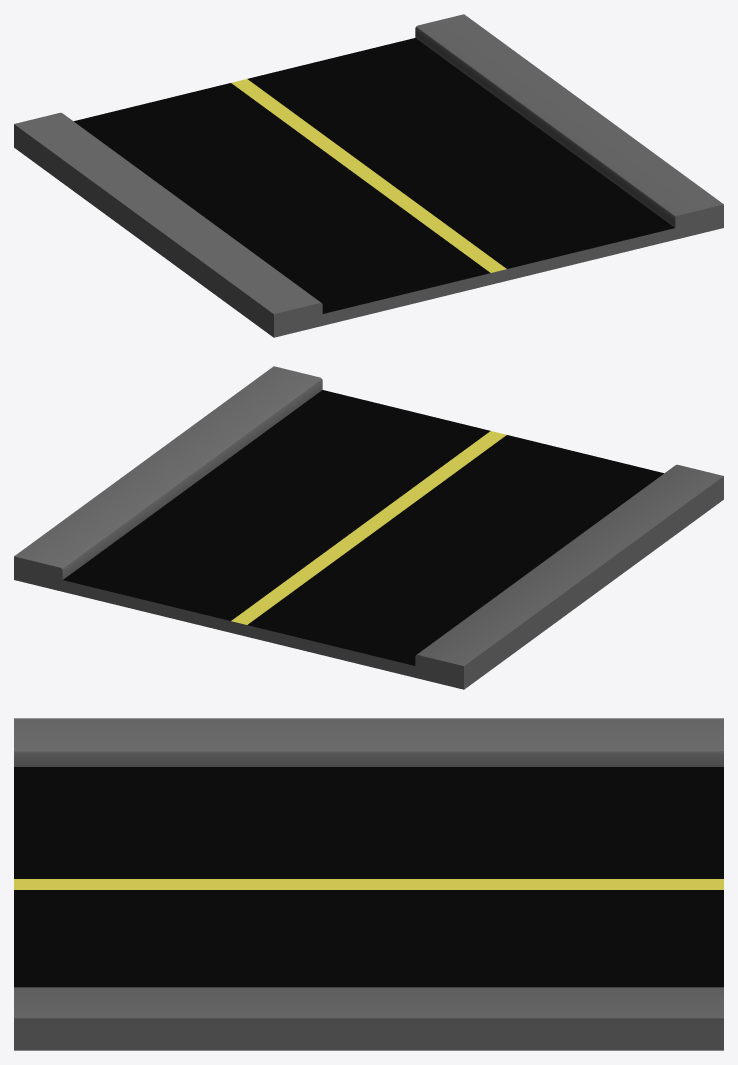
The model's file is Straight5.fbx.
3 renders of one model, top to bottom at view 1: azimuth 30°, elevation 25°; view 2: azimuth 150°, elevation 25°; view 3: azimuth 270°, elevation 25°, orthographic. The views are drawn at different scales.
Parts seen in each view (by area): view 1: Straight3; view 2: Straight3; view 3: Straight3.
Boxes of the visible parts, box(x1,y1,x2,y2) form: Straight3: box(14, 14, 723, 337); Straight3: box(14, 366, 723, 689); Straight3: box(14, 718, 723, 1050).
Bounding box in the file's own units: 200 × 10 × 200.
